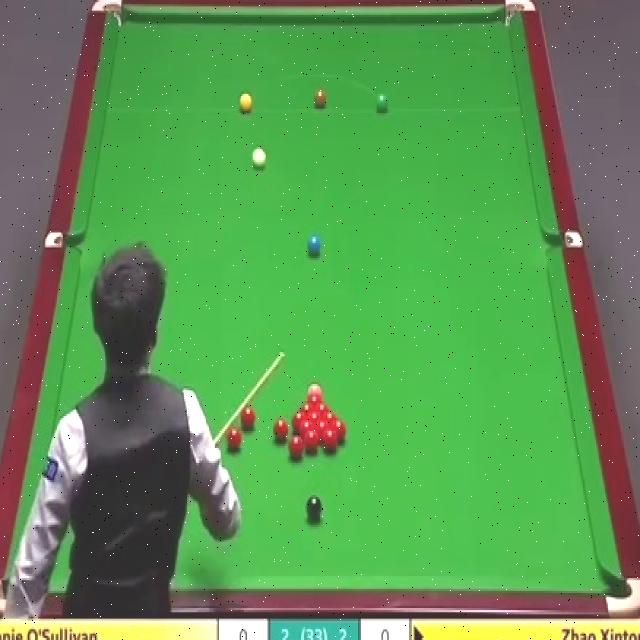black-ball: (306, 492, 322, 522)
blue-ball: (309, 235, 322, 258)
brown-ball: (314, 90, 326, 109)
green-ball: (376, 92, 388, 113)
pink-ball: (306, 380, 323, 397)
red-ball: (239, 404, 259, 430), (305, 427, 322, 453), (272, 417, 288, 444), (322, 428, 339, 452), (290, 435, 306, 460), (330, 419, 348, 440), (226, 426, 241, 449), (299, 419, 315, 435), (316, 420, 330, 438), (313, 403, 332, 414), (292, 413, 305, 429), (322, 411, 339, 422), (305, 393, 323, 403), (306, 412, 323, 422), (297, 403, 313, 413)
white-ball: (251, 143, 269, 169)
yellow-ball: (238, 91, 254, 113)
